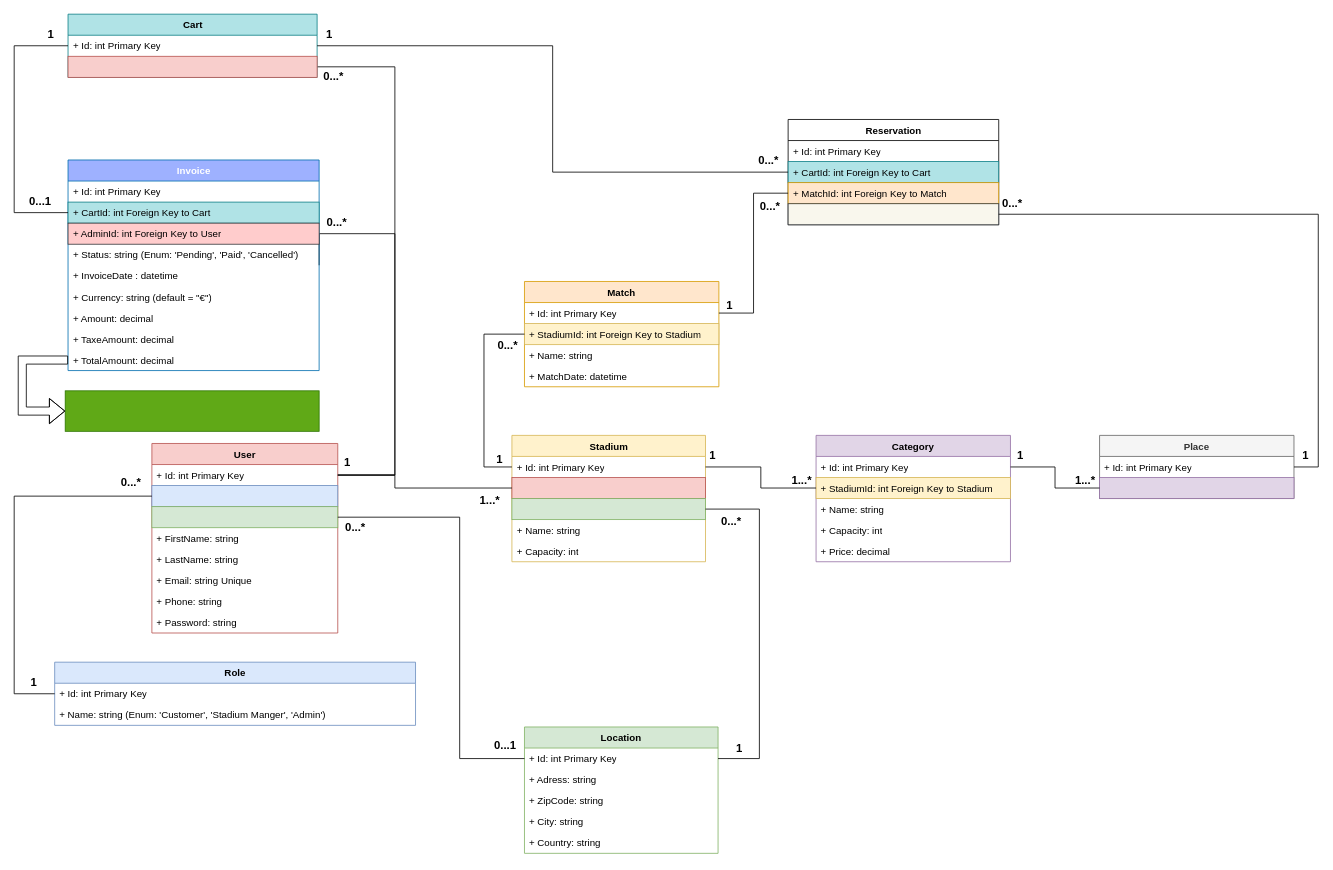
Some shapes in this 1333 by 870 pixel diagram are drawn without their labels. Here are the shapes that lost their labels. From the top down, the centre of each, then its label:
At point (192, 66): "+ CustomerId: int Foreign Key to User".
At point (893, 214): "+ PlaceId: int Foreign Key to Place".
At point (191, 410): "PDF Invoices will be stored in SharePoint".
At point (244, 496): "+ RoleId : int Foreign Key to Role".
At point (608, 488): "+ ManagerId: int Foreign Key to User".
At point (1196, 488): "+ CategoryId: int Foreign Key to Category".
At point (244, 517): "+ LocationId : int Foreign Key to Location".
At point (608, 509): "+ LocationId: int Foreign Key to Location".
